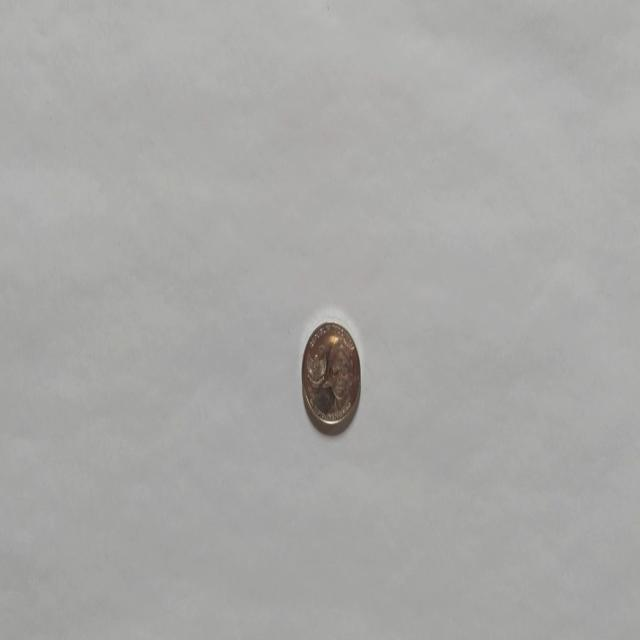dua ratus rupiah: (300, 320, 362, 434)
